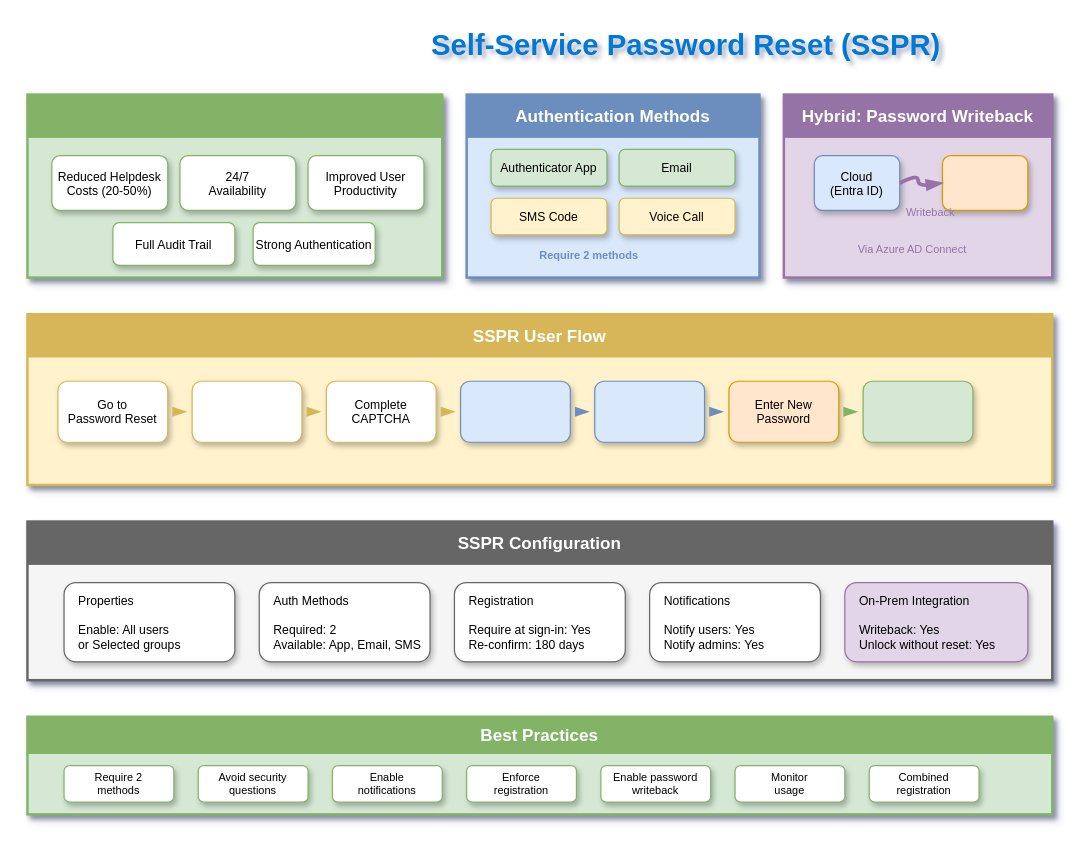
Image size: 1088x852. Some labels were removed from this diagram. The centre of each missing label's shape, as x and y in pixels:
"Enter Username" belongs at point 247,413.
"On-Prem (AD)" belongs at point 985,184.
"Password Reset!" belongs at point 918,413.
"SSPR Benefits" belongs at point 234,115.
"Verify Method 1 (e.g., SMS)" belongs at point 516,413.
"Verify Method 2 (e.g., App)" belongs at point 650,413.
